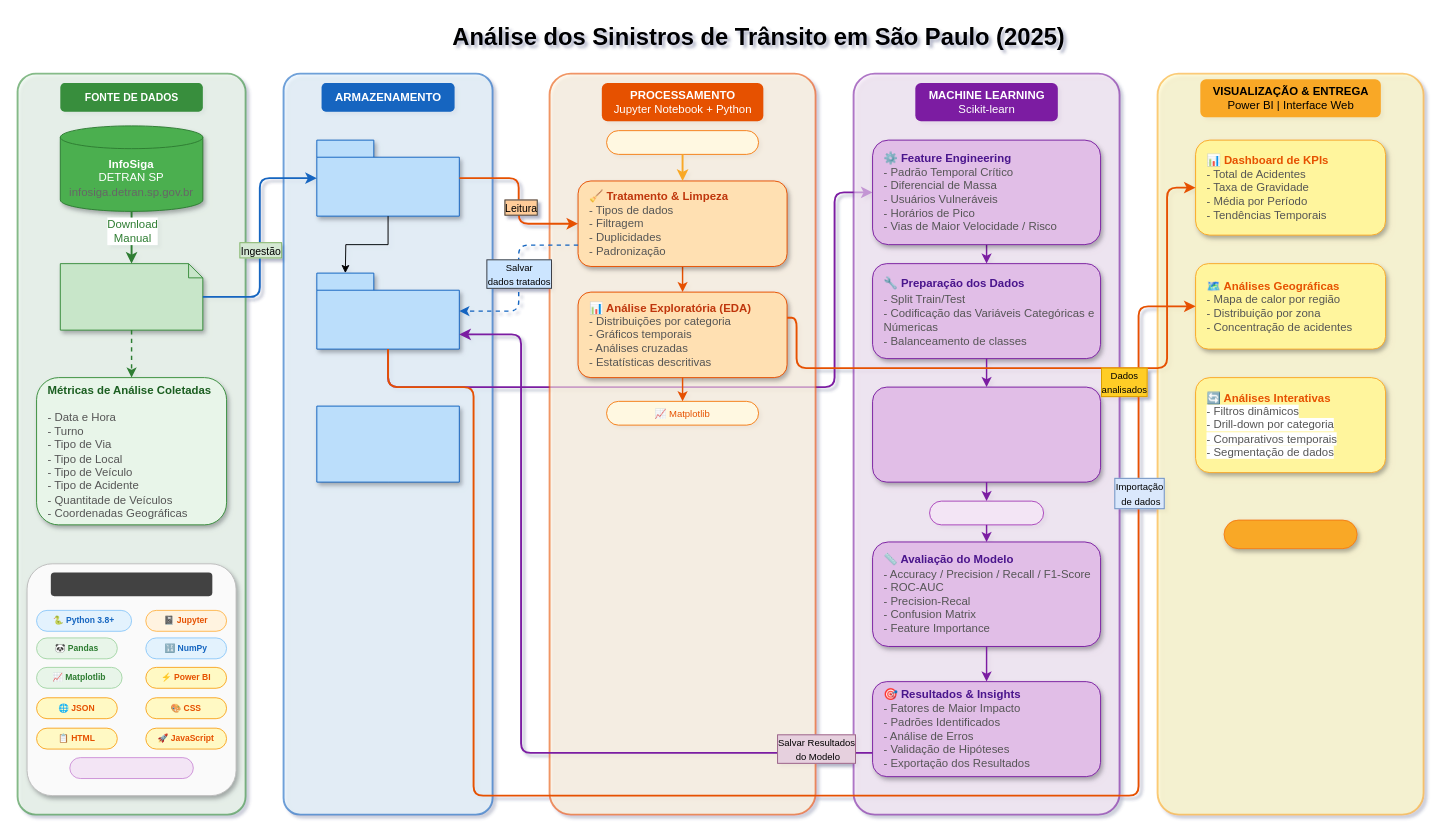
The diagram is 1446 pixels wide and 837 high, and some of its shapes have lost their labels. The shapes that lost their labels are listed below. From the top down, each one's centre as x and y in pixels, then its label:
At (x=682, y=142): "🐼 Pandas 🔢 NumPy".
At (x=388, y=179): "📁 data/raw/ Dados originais (sem alteração)".
At (x=132, y=298): "Dados CSV Acidentes, Vítimas, Veículos, Condutores".
At (x=388, y=312): "📁 data/processed/ Dados limpos e padronizados".
At (x=388, y=445): "📄 Dicionário de Dados Documentação das colunas".
At (x=987, y=435): "🤖 Modelagem - Random Forest - Decision Tree - Logistic Regression - LightGBM".
At (x=986, y=512): "🧠 Scikit-learn".
At (x=1291, y=535): "⚡ Power BI Desktop".
At (x=131, y=584): "🛠️ Stack Tecnológica".
At (x=131, y=768): "🧠 Scikit-learn / LightGBM".
